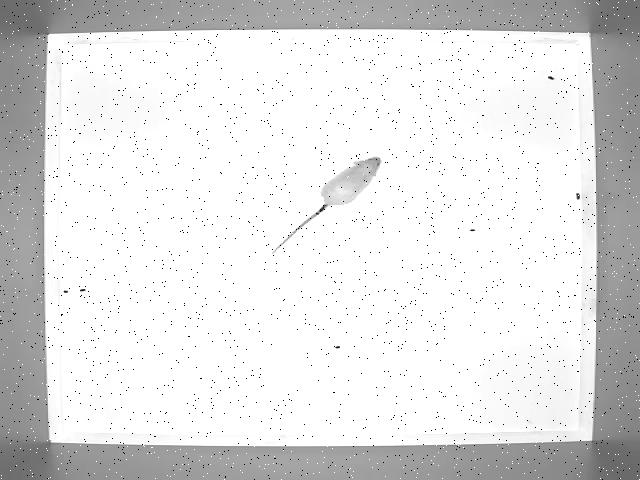Tikus: (270, 148, 402, 256)
